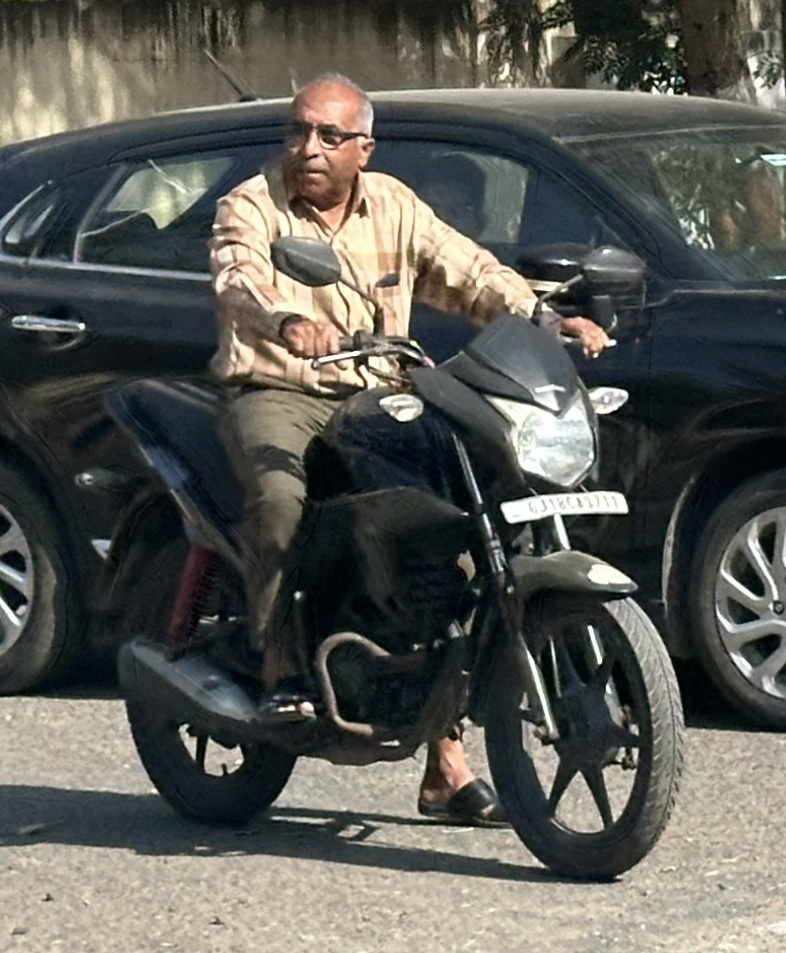BikeWithRider: (83, 62, 700, 888)
NoHelmet: (264, 64, 392, 205)
